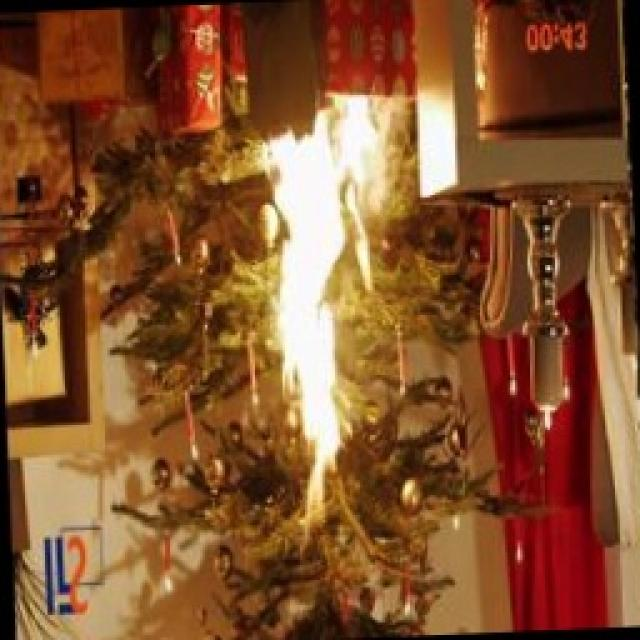fire: (228, 92, 414, 532)
